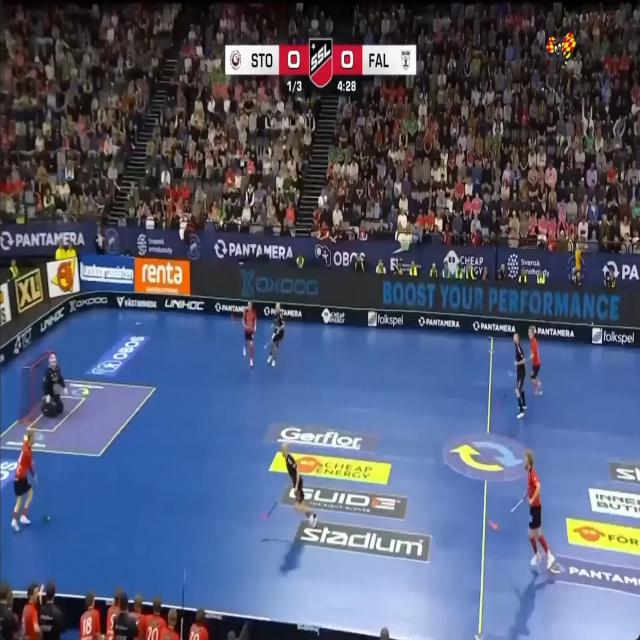Balls: (47, 516, 50, 520)
player: (525, 450, 554, 569), (281, 443, 316, 526), (11, 431, 36, 531), (42, 353, 65, 417), (513, 333, 526, 417), (267, 303, 284, 366), (80, 592, 101, 639), (528, 325, 542, 395), (144, 596, 166, 639), (242, 301, 256, 366), (105, 588, 121, 639), (188, 608, 209, 639), (159, 607, 178, 639)
stick: (262, 500, 278, 520), (510, 496, 524, 512), (264, 333, 276, 349), (263, 339, 270, 349)
